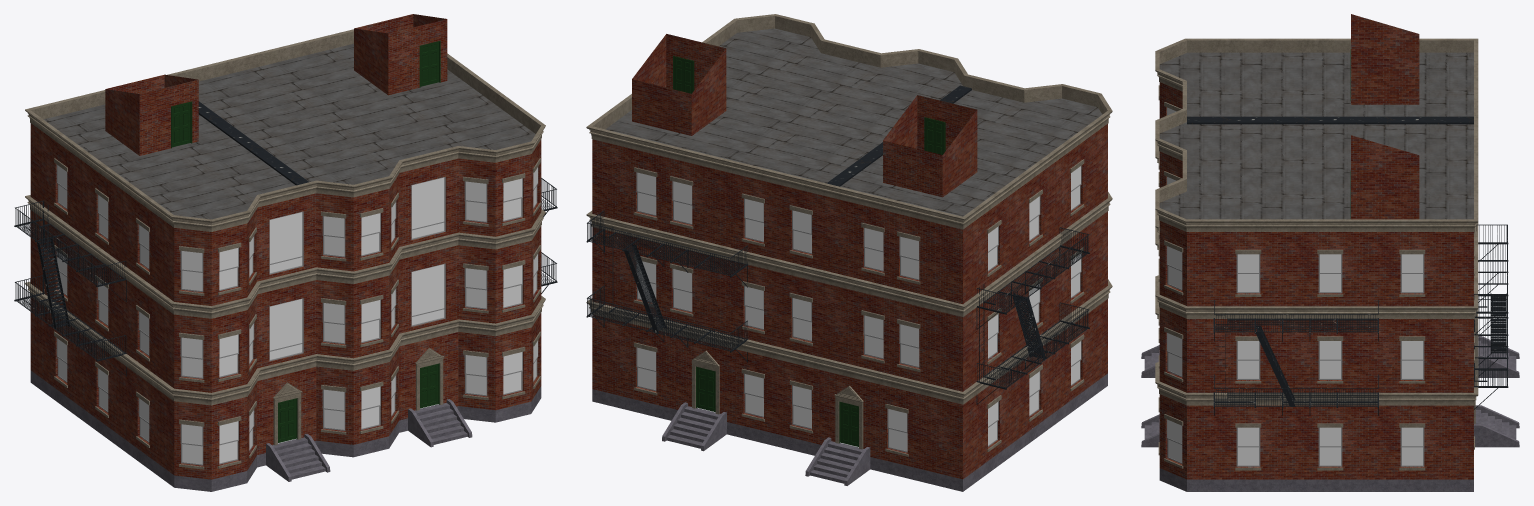
The model's file is Building_21.fbx.
3 renders of one model, left to right at view 1: azimuth 30°, elevation 25°; view 2: azimuth 150°, elevation 25°; view 3: azimuth 270°, elevation 25°, orthographic.
Parts seen in each view (by area): view 1: Building_20_LOD0; view 2: Building_20_LOD0; view 3: Building_20_LOD0.
Part boxes in pixels (bbox=[...]): Building_20_LOD0: bbox=[14, 14, 557, 491]; Building_20_LOD0: bbox=[586, 14, 1112, 491]; Building_20_LOD0: bbox=[1141, 14, 1519, 491].
Size of what is drawn, in the model's own units: 2195 by 1585 by 1687.
